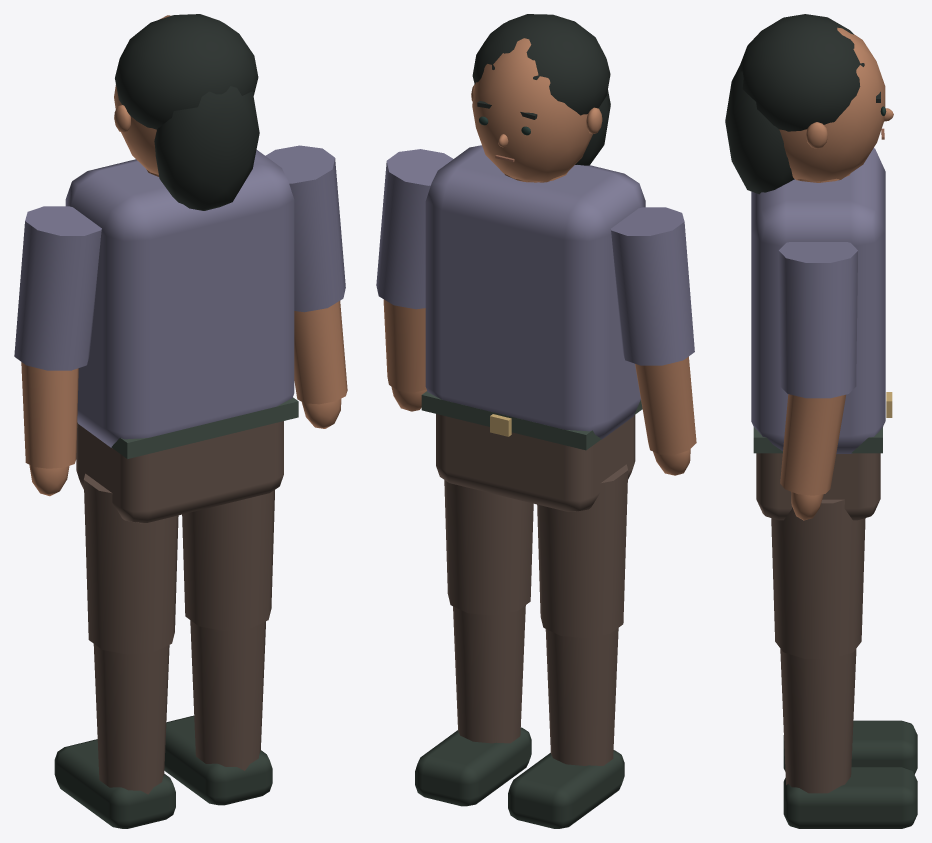
The model's file is scout-14.glb.
The picture shows the model from 3 angles, left to right: view 1: azimuth 30°, elevation 25°; view 2: azimuth 150°, elevation 25°; view 3: azimuth 270°, elevation 25°; orthographic projection. The views are drawn at different scales.
Parts seen in each view (by area): view 1: Scout character 14, left-upper-arm, right-upper-arm; view 2: Scout character 14, left-upper-arm, right-upper-arm; view 3: Scout character 14, right-upper-arm.
Boxes of the visible parts, left/top/right/bottom form: Scout character 14: left=54, top=14, right=298, bottom=828; left-upper-arm: left=14, top=206, right=101, bottom=496; right-upper-arm: left=265, top=145, right=347, bottom=428; Scout character 14: left=415, top=14, right=645, bottom=828; left-upper-arm: left=610, top=207, right=696, bottom=475; right-upper-arm: left=376, top=149, right=453, bottom=411; Scout character 14: left=725, top=14, right=917, bottom=828; right-upper-arm: left=778, top=242, right=857, bottom=520.
Bounding box in the file's own units: 0.7284 × 1.72 × 0.3875.
